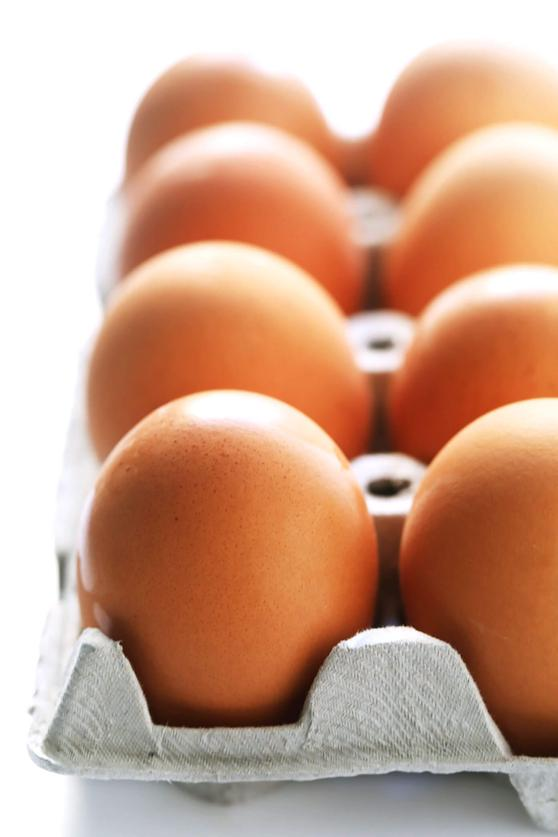egg: (90, 386, 383, 730)
